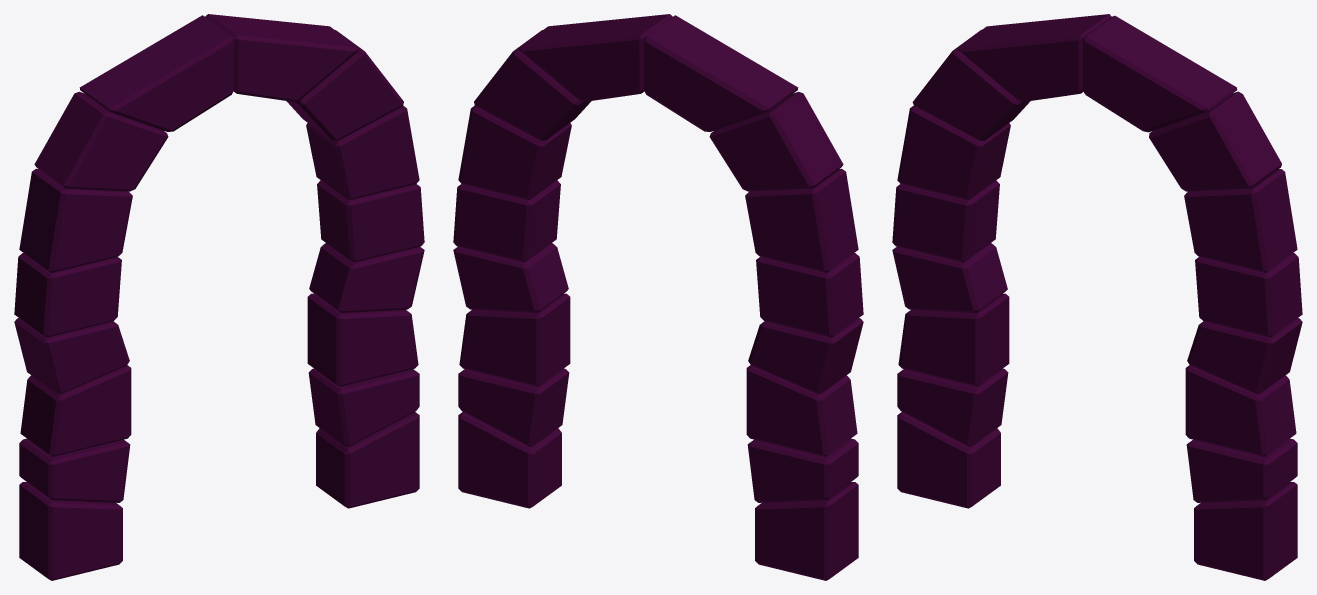
The model's file is Portal.fbx.
3 views of the same model, side by side, from view 1: azimuth 30°, elevation 25°; view 2: azimuth 150°, elevation 25°; view 3: azimuth 330°, elevation 25° (orthographic).
Parts seen in each view (by area): view 1: Cube.007, Cube.005, Cube, Cube.002, Cube.006, Cube.004, Cube.003, Cube.001; view 2: Cube.007, Cube.005, Cube, Cube.002, Cube.006, Cube.004, Cube.003, Cube.001; view 3: Cube.007, Cube.005, Cube, Cube.002, Cube.006, Cube.004, Cube.003, Cube.001.
Boxes of the visible parts, x1=… form: Cube.007: x1=79, y1=14, x2=359, y2=131; Cube.005: x1=19, y1=105, x2=419, y2=272; Cube: x1=19, y1=412, x2=419, y2=580; Cube.002: x1=20, y1=293, x2=418, y2=456; Cube.006: x1=34, y1=30, x2=403, y2=191; Cube.004: x1=14, y1=180, x2=424, y2=337; Cube.003: x1=14, y1=243, x2=424, y2=394; Cube.001: x1=19, y1=368, x2=419, y2=502; Cube.007: x1=518, y1=14, x2=798, y2=131; Cube.005: x1=458, y1=105, x2=858, y2=272; Cube: x1=458, y1=412, x2=858, y2=580; Cube.002: x1=459, y1=293, x2=857, y2=456; Cube.006: x1=474, y1=30, x2=843, y2=191; Cube.004: x1=453, y1=180, x2=863, y2=337; Cube.003: x1=453, y1=243, x2=863, y2=394; Cube.001: x1=458, y1=368, x2=858, y2=502; Cube.007: x1=958, y1=14, x2=1237, y2=132; Cube.005: x1=897, y1=105, x2=1297, y2=272; Cube: x1=897, y1=412, x2=1297, y2=580; Cube.002: x1=898, y1=293, x2=1296, y2=456; Cube.006: x1=912, y1=29, x2=1281, y2=191; Cube.004: x1=892, y1=180, x2=1302, y2=337; Cube.003: x1=892, y1=243, x2=1302, y2=394; Cube.001: x1=897, y1=368, x2=1297, y2=502.
Size of the model in its own units: 247 by 310 by 36.
